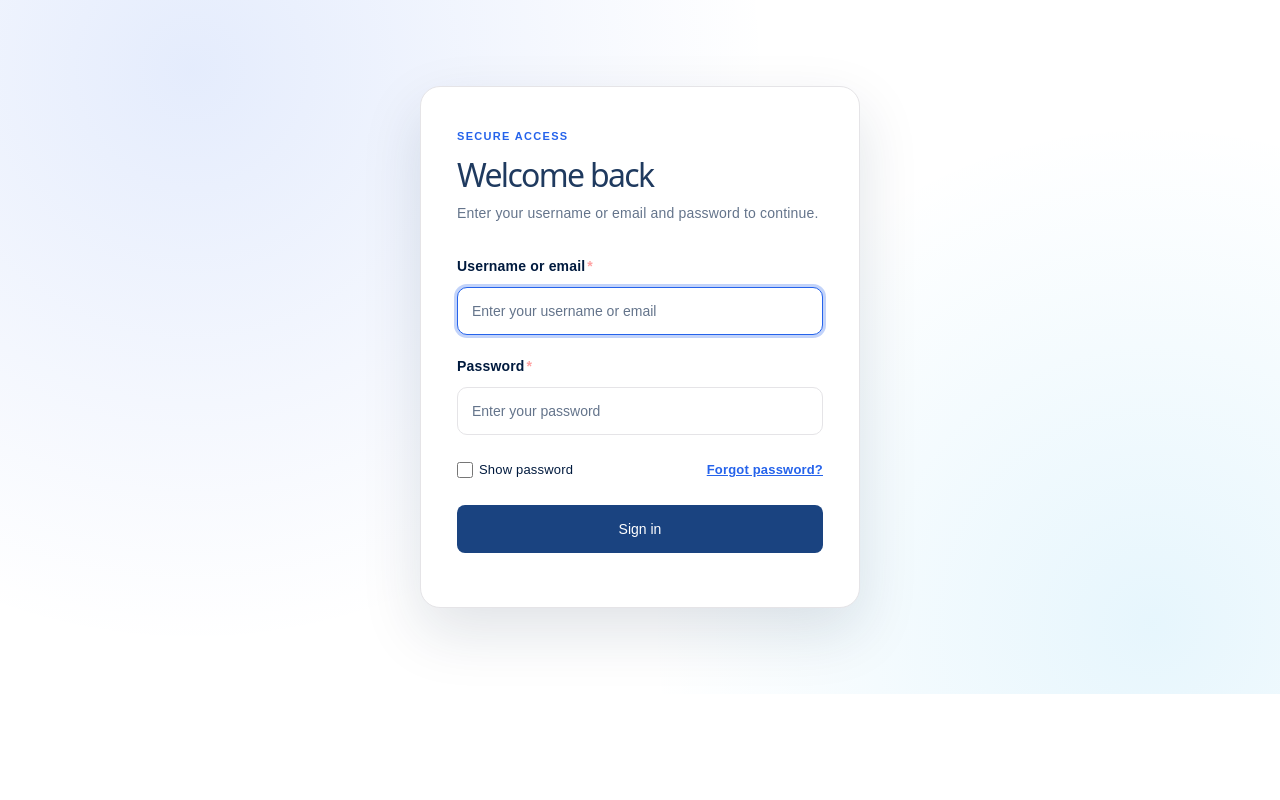
Test: LoginForm › focuses the first invalid field when both fields are empty
What coordinates should you click on to do the following:
click the button "Sign in"
I would click on:
 (640, 529)
Its box is [457,505,823,553].
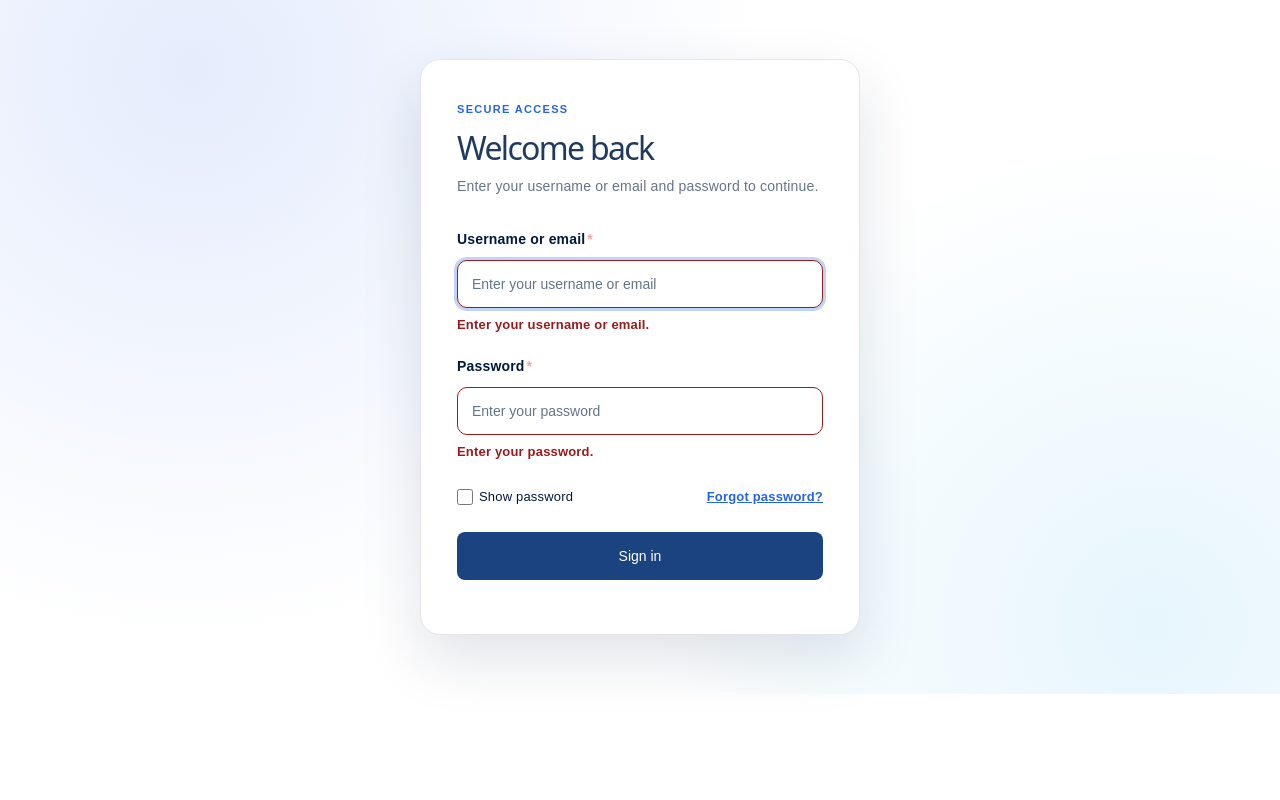
Result: the text "Enter your username or email." is shown at [457,317,649,332]
Result: the text "Enter your password." is shown at [457,444,594,459]
